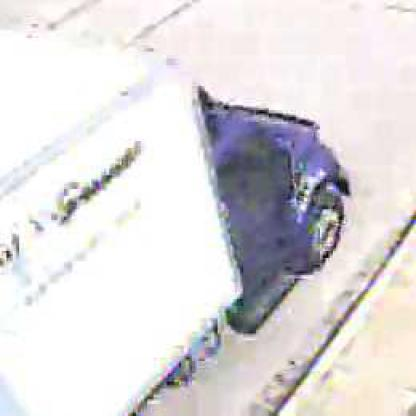truck: (3, 25, 356, 415)
